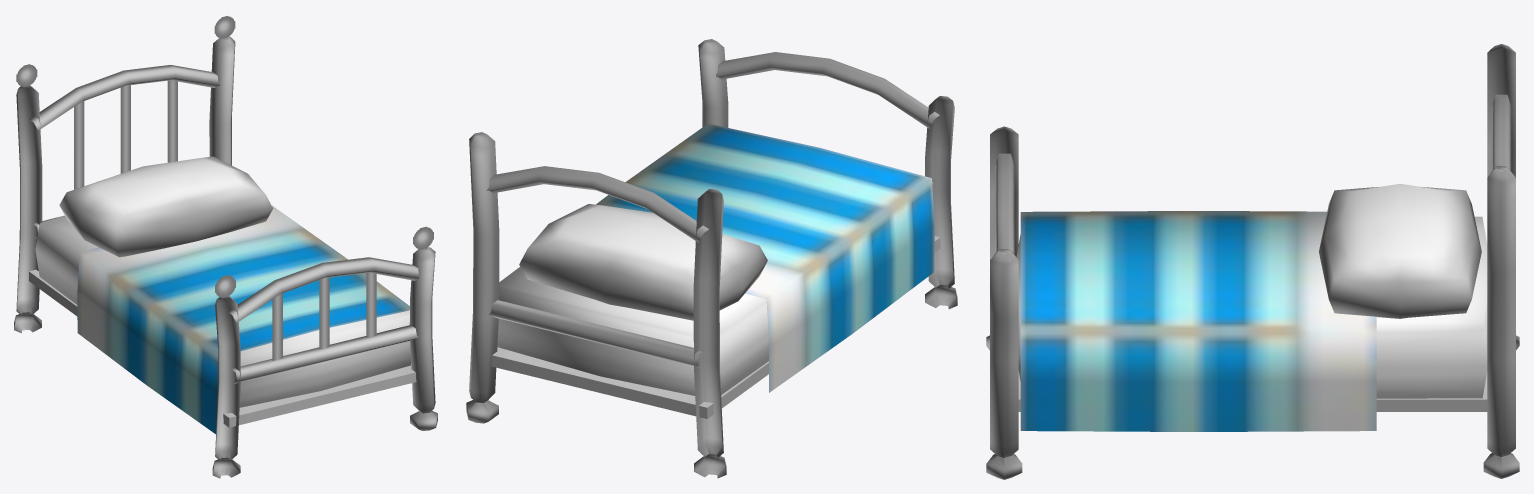
Rendered from regular_bed_desat.glb.
3 renders of one model, left to right at view 1: azimuth 30°, elevation 25°; view 2: azimuth 150°, elevation 25°; view 3: azimuth 270°, elevation 25°, orthographic. The views are drawn at different scales.
Parts seen in each view (by area): view 1: blanket1bed, pCube2, mattress, postL (×2), top (×2), postR, mattress_support, bottom, postR1, bar22__billboard, bar21__billboard, bar23__billboard (+3 smaller); view 2: blanket1bed, pCube2, mattress, postL (×2), top (×2), postR1, mattress_support, bottom, postR; view 3: blanket1bed, pCube2, mattress, postR1, postR, postL (×2), top (×2), mattress_support.
Boxes of the visible parts, x1,y1,x2,y2 form: blanket1bed: (77,205,409,433); pCube2: (59,156,273,257); mattress: (35,215,410,407); postL (×2): (14,85,240,478); top (×2): (29,65,419,322); postR: (409,247,437,430); mattress_support: (29,269,416,427); bottom: (231,325,418,383); postR1: (209,36,235,165); bar22__billboard: (120,85,130,173); bar21__billboard: (74,101,84,189); bar23__billboard: (167,80,177,162); blanket1bed: (596,123,934,392); pCube2: (519,204,767,320); mattress: (497,267,769,395); postL (×2): (693,96,957,478); top (×2): (486,52,939,242); postR1: (466,132,499,423); mattress_support: (491,236,940,418); bottom: (488,300,704,367); postR: (698,39,728,127); blanket1bed: (1020,211,1376,431); pCube2: (1319,183,1481,318); mattress: (1016,216,1487,398); postR1: (1483,166,1519,478); postR: (986,249,1022,479); postL (×2): (986,44,1519,350); top (×2): (995,94,1511,254); mattress_support: (1018,371,1487,411).
Size of the model in its own units: 4.02 by 4.55 by 6.58.
4 materials, 4 textured.
